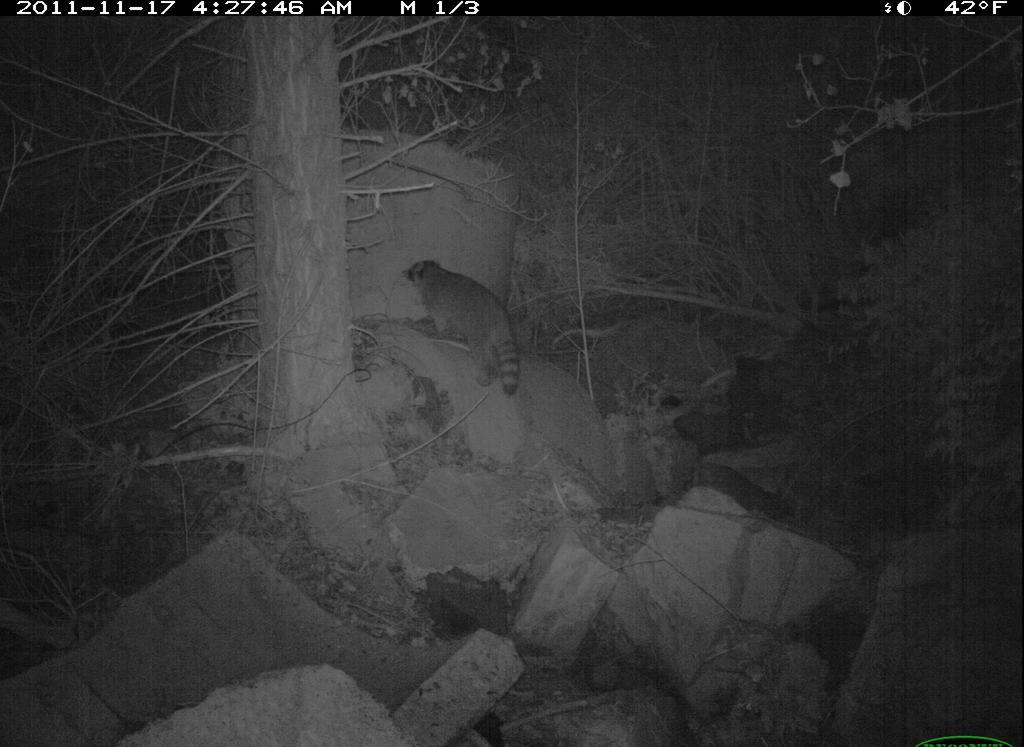raccoon: (400, 257, 532, 396)
